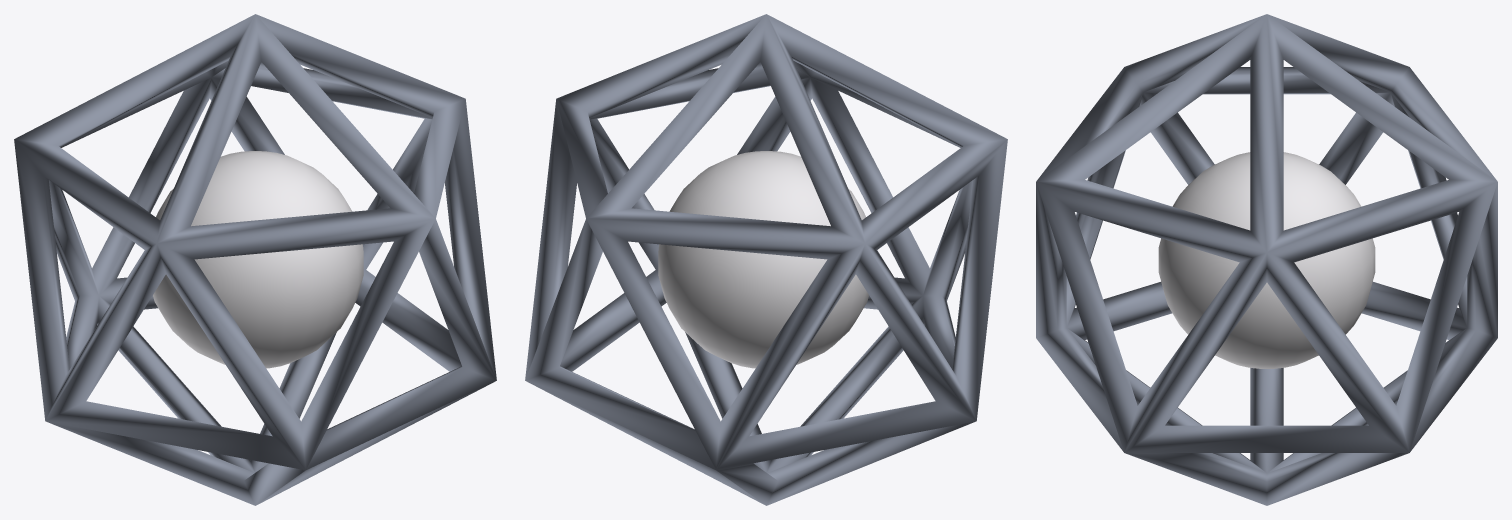
3 renders of one model, left to right at view 1: azimuth 30°, elevation 25°; view 2: azimuth 150°, elevation 25°; view 3: azimuth 270°, elevation 25°, orthographic.
Visible parts, largest first — view 1: Sphere.002, Sphere; view 2: Sphere.002, Sphere; view 3: Sphere.002, Sphere.
Part boxes in pixels (x1,y1,x2,y2): Sphere.002: (14,14,496,505); Sphere: (153,151,363,368); Sphere.002: (525,14,1007,505); Sphere: (658,151,868,368); Sphere.002: (1036,14,1497,505); Sphere: (1158,152,1375,368).
Size of the model in its own units: 192 by 214 by 182.
